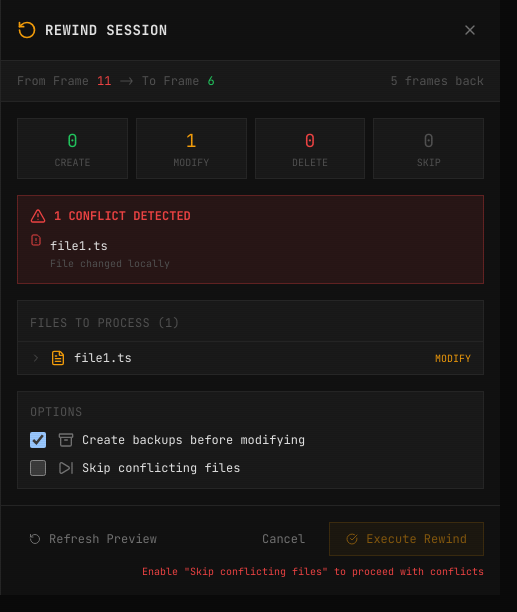
Test: RewindPanel › shows conflicts and disables execute button if conflicts not skipped
Expected: the text "1 Conflict Detected" is shown, [54, 208, 191, 224]
Expected: the text "File changed locally" is shown, [50, 256, 170, 271]
Toggle skip conflicts
Click the text "Skip conflicting files". click: (161, 468)
box: [82, 460, 240, 476]
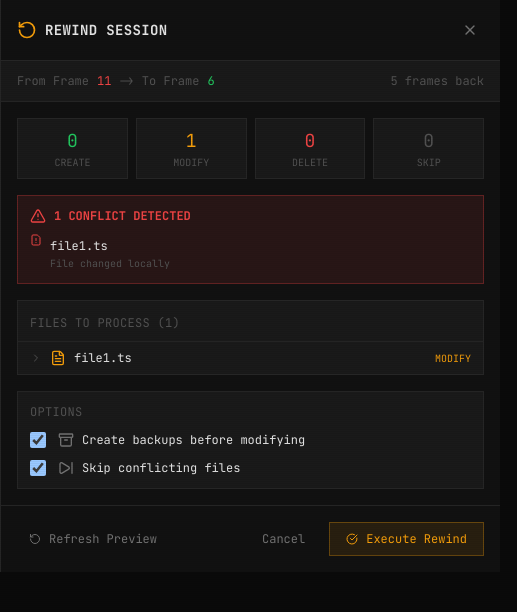
Expected: the button "Execute Rewind" is enabled, [329, 522, 484, 556]
